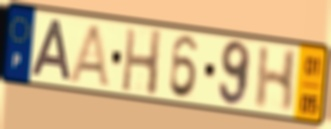6: (167, 33, 201, 102)
9: (218, 38, 254, 110)
A: (66, 23, 113, 90), (29, 17, 73, 84)
H: (252, 45, 300, 114), (119, 26, 164, 99)
